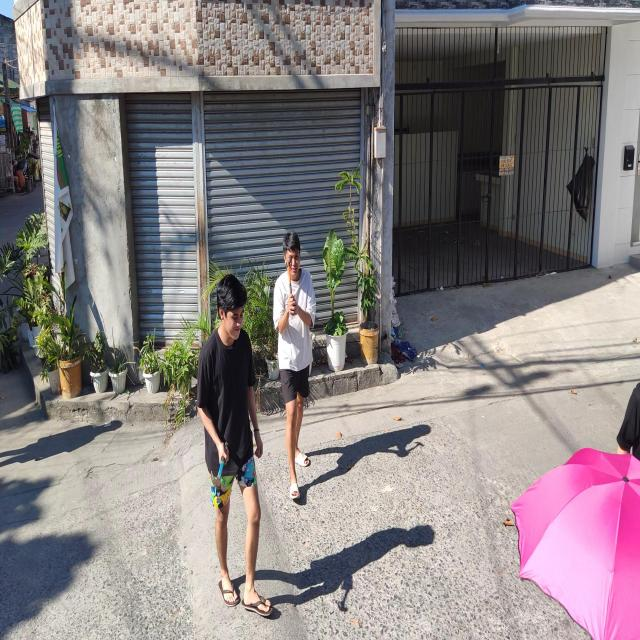hammer: (210, 440, 228, 492), (285, 258, 292, 295)
